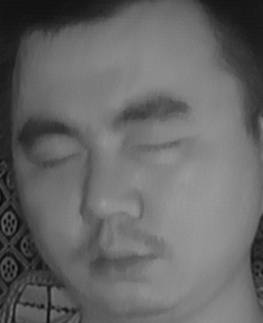blink: (132, 123, 189, 162), (32, 141, 82, 175)
mouth: (77, 232, 158, 285)
